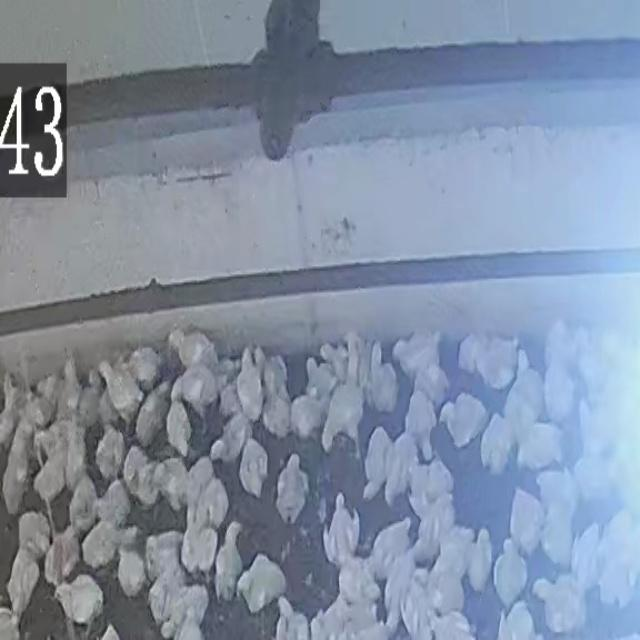chicken: (0, 549, 42, 622), (537, 571, 589, 629), (324, 390, 366, 461), (238, 560, 288, 617), (272, 447, 307, 523), (82, 527, 141, 571), (410, 496, 451, 558), (402, 392, 437, 460), (599, 553, 640, 611), (29, 447, 71, 502), (437, 396, 483, 446), (373, 520, 412, 578), (213, 523, 242, 601), (321, 500, 358, 561), (147, 561, 184, 621), (593, 509, 640, 556), (568, 458, 615, 505), (99, 364, 144, 413), (508, 481, 539, 551), (382, 558, 409, 634), (135, 389, 170, 447), (363, 426, 390, 501), (476, 422, 513, 476), (44, 531, 79, 588), (127, 452, 163, 507), (371, 344, 397, 420), (165, 589, 208, 634), (517, 426, 561, 469), (537, 465, 573, 517), (548, 358, 578, 420), (394, 330, 441, 369), (385, 437, 415, 498), (265, 376, 294, 439), (0, 444, 26, 514), (428, 607, 483, 640), (492, 544, 522, 604), (60, 577, 98, 624), (541, 507, 570, 568), (182, 525, 218, 574), (430, 569, 465, 619), (480, 343, 518, 389), (292, 394, 329, 441), (63, 477, 99, 525), (236, 348, 259, 423), (186, 464, 216, 520), (493, 603, 538, 640), (173, 328, 215, 367), (469, 529, 495, 591), (215, 420, 253, 462), (176, 370, 214, 412), (16, 513, 53, 556), (409, 462, 455, 495), (241, 442, 267, 500), (308, 596, 342, 640), (345, 333, 372, 388), (574, 530, 600, 587), (434, 531, 473, 569), (336, 566, 376, 603), (403, 581, 429, 637), (503, 392, 534, 438), (259, 343, 289, 389), (80, 367, 103, 426), (101, 481, 131, 526), (415, 363, 447, 405), (147, 532, 182, 570), (97, 428, 123, 479), (161, 461, 186, 513), (199, 484, 230, 525), (59, 362, 81, 419), (514, 353, 534, 413), (116, 551, 139, 601), (274, 602, 303, 640), (307, 356, 333, 392), (460, 337, 489, 369), (171, 406, 191, 452), (39, 378, 62, 407)
